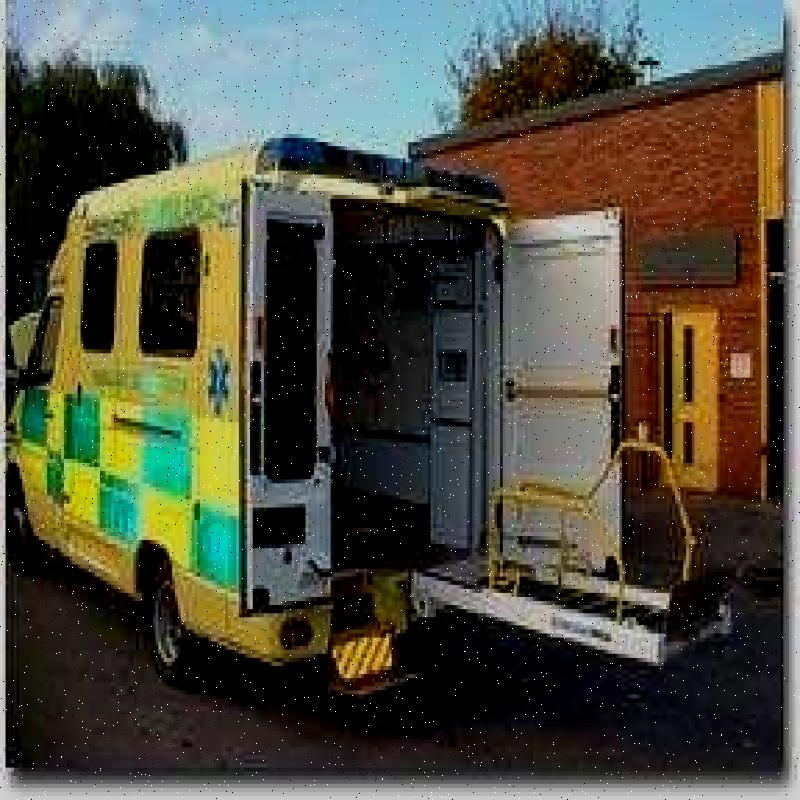AmbulanceSiren: (258, 110, 523, 210)
